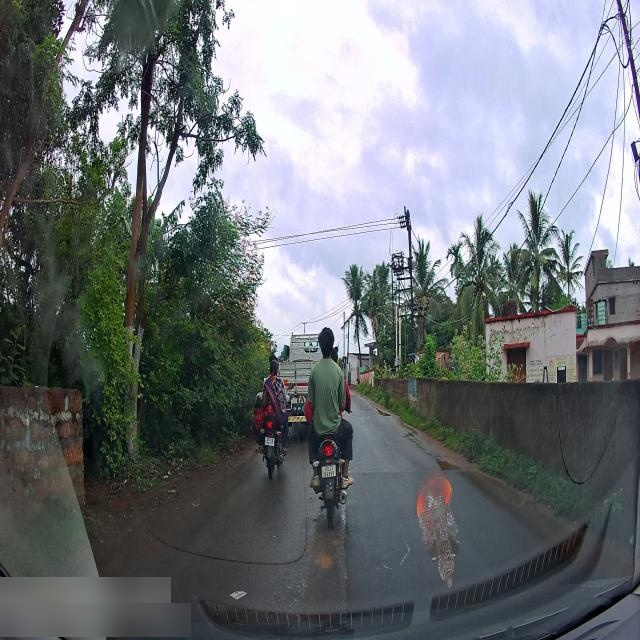pothole: (436, 454, 462, 473), (402, 424, 420, 440), (374, 405, 392, 418)
